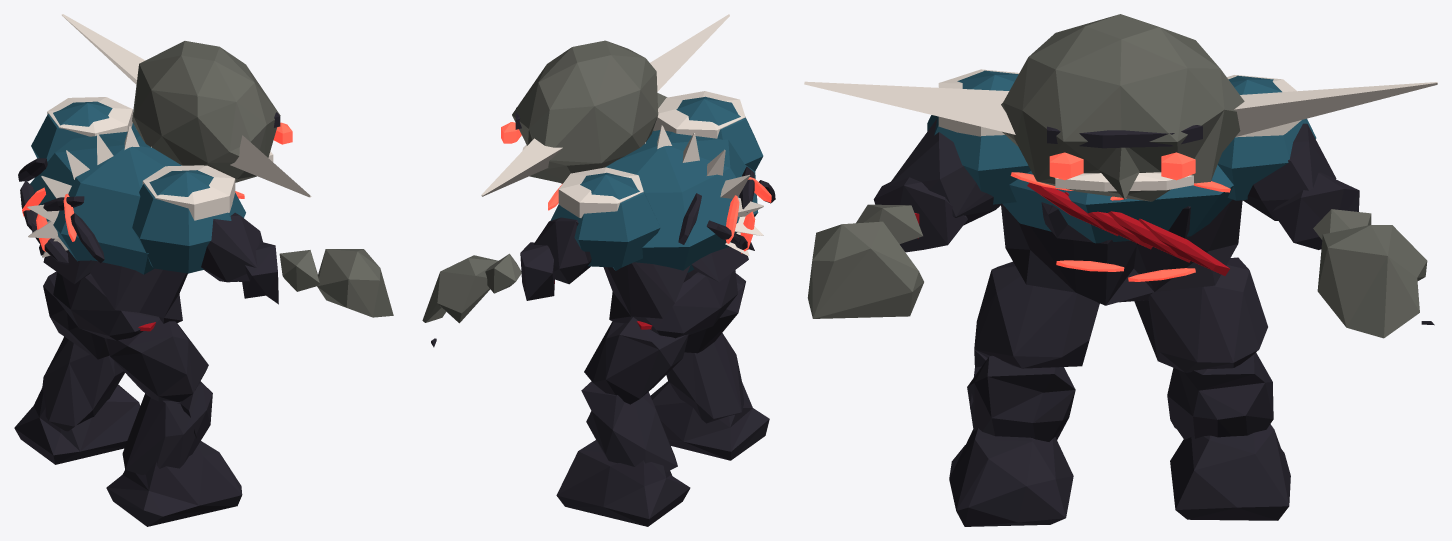
3 views of the same model, side by side, from view 1: azimuth 30°, elevation 25°; view 2: azimuth 150°, elevation 25°; view 3: azimuth 270°, elevation 25° (orthographic). The views are drawn at different scales.
Parts seen in each view (by area): view 1: torso__mega, head__mega, footR__mega, legR__mega, shinR__mega, footL__mega, shinL__mega, handR__mega, hip__mega, armR__mega, foreArmR__mega, legL__mega; view 2: torso__mega, head__mega, footL__mega, legL__mega, shinL__mega, footR__mega, shinR__mega, hip__mega, handL__mega, foreArmL__mega, armL__mega, legR__mega; view 3: head__mega, torso__mega, footR__mega, legL__mega, footL__mega, handL__mega, legR__mega, handR__mega, shinR__mega, shinL__mega, foreArmR__mega, armR__mega (+2 smaller).
Boxes of the visible parts, bbox=[...] form: torso__mega: bbox=[18, 97, 245, 323]; head__mega: bbox=[61, 14, 311, 197]; footR__mega: bbox=[106, 441, 242, 526]; legR__mega: bbox=[104, 319, 208, 438]; shinR__mega: bbox=[122, 381, 212, 474]; footL__mega: bbox=[14, 384, 140, 464]; shinL__mega: bbox=[42, 336, 124, 431]; handR__mega: bbox=[317, 249, 393, 317]; hip__mega: bbox=[53, 272, 159, 340]; armR__mega: bbox=[201, 212, 263, 282]; foreArmR__mega: bbox=[242, 242, 319, 304]; legL__mega: bbox=[43, 271, 109, 359]; torso__mega: bbox=[548, 91, 775, 323]; head__mega: bbox=[481, 14, 729, 196]; footL__mega: bbox=[556, 440, 690, 526]; legL__mega: bbox=[584, 317, 688, 404]; shinL__mega: bbox=[581, 381, 677, 472]; footR__mega: bbox=[650, 381, 769, 460]; shinR__mega: bbox=[666, 333, 743, 423]; hip__mega: bbox=[630, 270, 737, 338]; handL__mega: bbox=[422, 255, 498, 347]; foreArmL__mega: bbox=[485, 242, 554, 300]; armL__mega: bbox=[534, 217, 591, 284]; legR__mega: bbox=[684, 273, 745, 353]; head__mega: bbox=[804, 14, 1437, 201]; torso__mega: bbox=[927, 69, 1316, 305]; footR__mega: bbox=[949, 428, 1073, 526]; legL__mega: bbox=[1134, 257, 1267, 372]; footL__mega: bbox=[1170, 424, 1290, 520]; handL__mega: bbox=[1317, 225, 1434, 338]; legR__mega: bbox=[970, 261, 1099, 408]; handR__mega: bbox=[807, 221, 923, 318]; shinR__mega: bbox=[967, 355, 1075, 441]; shinL__mega: bbox=[1167, 352, 1273, 439]; foreArmR__mega: bbox=[856, 177, 967, 252]; armR__mega: bbox=[888, 118, 1001, 225].
Size of the model in its own units: 1.51 by 2.38 by 2.65.
